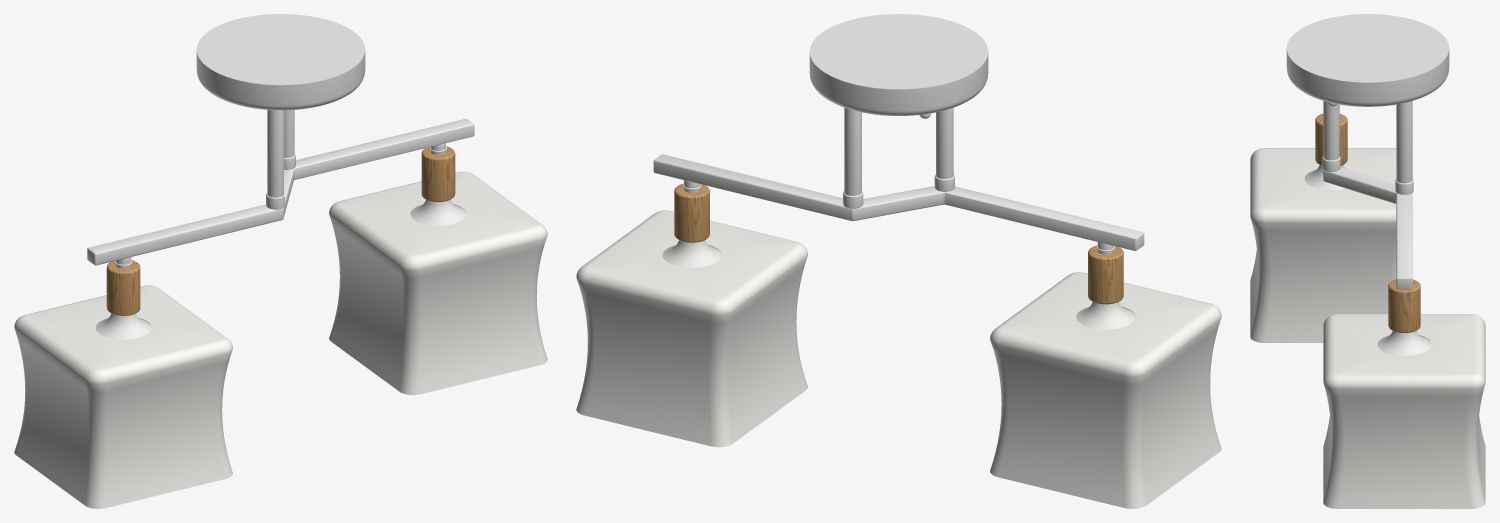
3 views of the same model, side by side, from view 1: azimuth 30°, elevation 25°; view 2: azimuth 150°, elevation 25°; view 3: azimuth 270°, elevation 25° (orthographic). The views are drawn at different scales.
Visible parts, largest first — view 1: glass, frame, wood; view 2: glass, frame, wood; view 3: glass, frame, wood.
Part boxes in pixels (x1,y1,x2,y2): glass: (14,171,547,508); frame: (87,14,474,339); wood: (106,146,455,315); glass: (576,210,1221,508); frame: (653,14,1144,329); wood: (674,183,1123,304); glass: (1250,148,1485,508); frame: (1286,14,1449,355); wood: (1315,113,1420,332).
Size of the model in its own units: 0.41 by 0.2812 by 0.174.
Materials: 5 (5 with a texture image).
